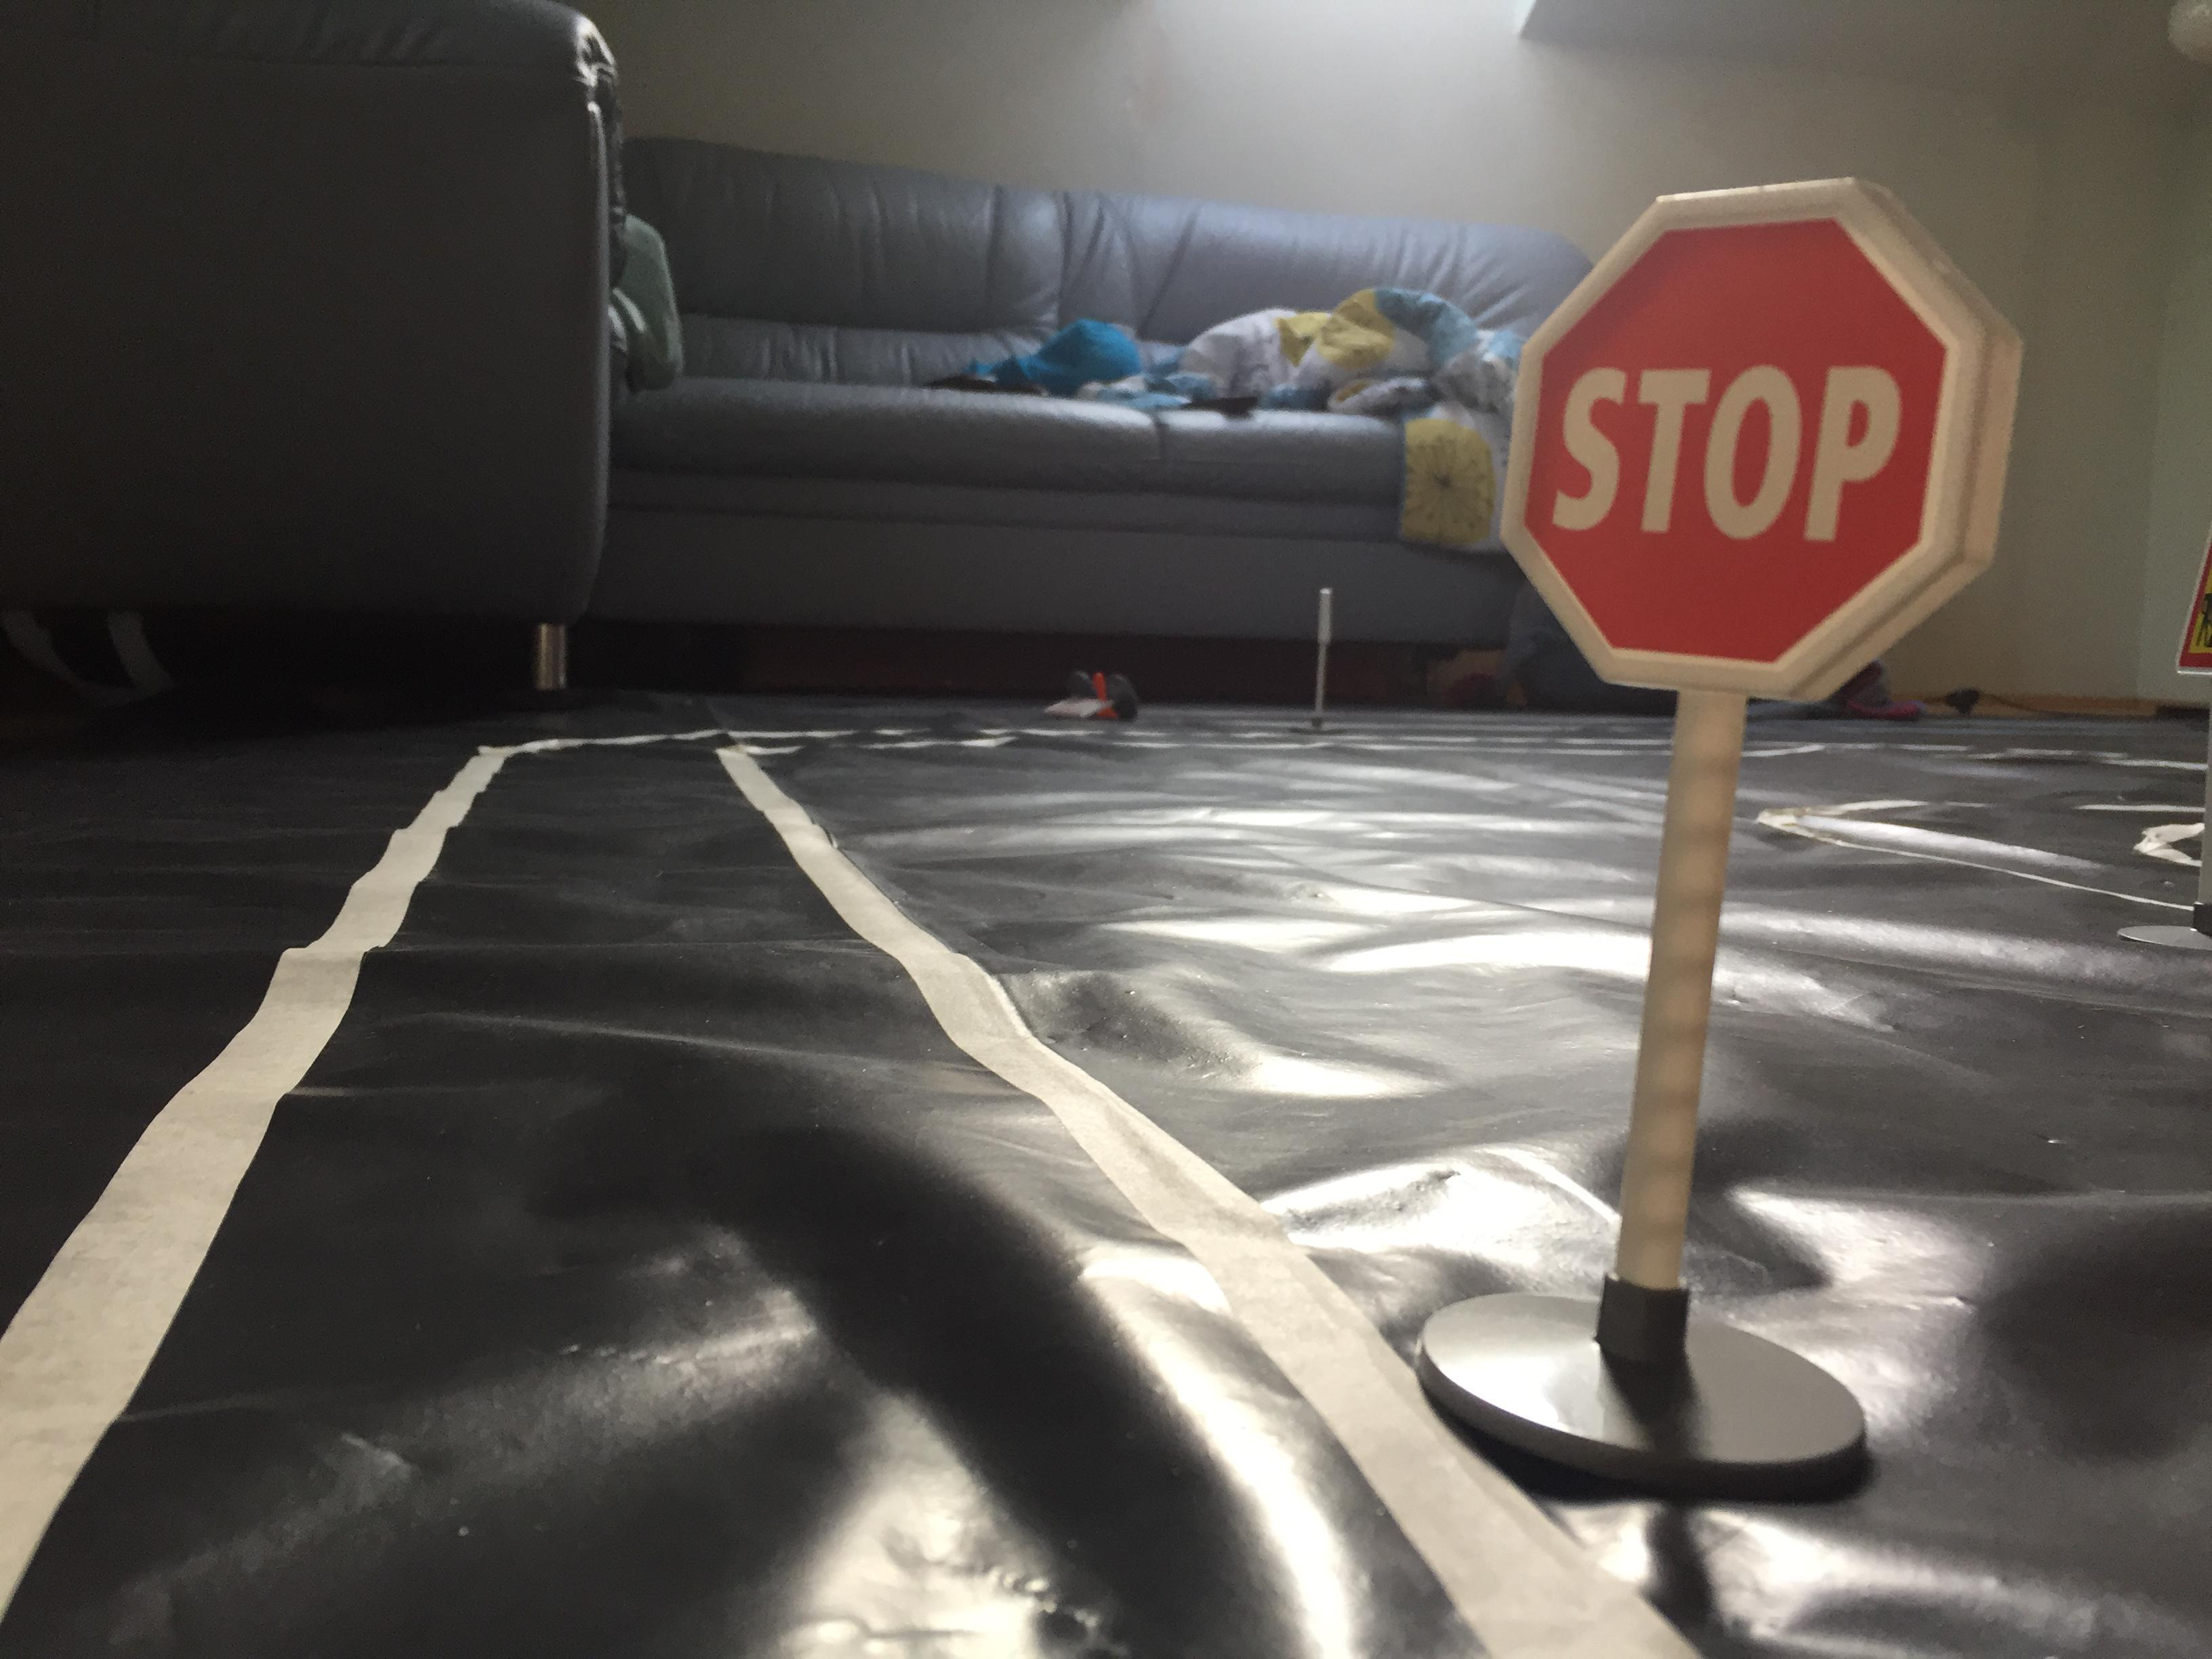stop: (1489, 150, 2050, 723)
